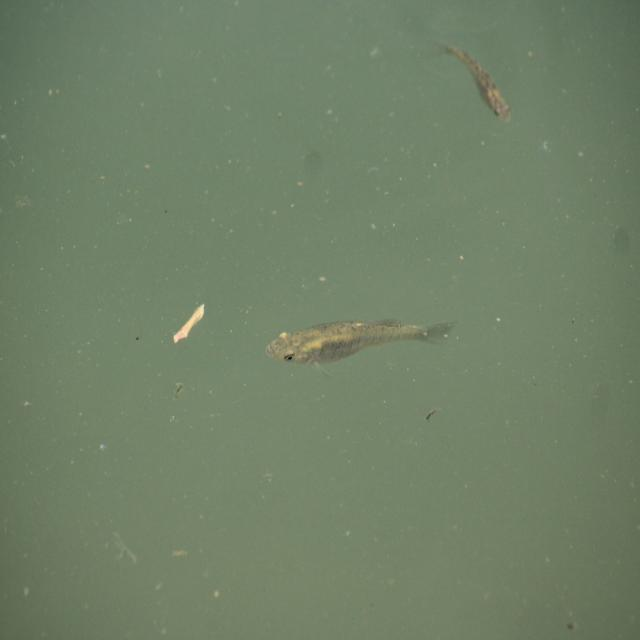Sivrisinek Baligi: (266, 310, 460, 370), (434, 36, 520, 122), (173, 298, 207, 346)
